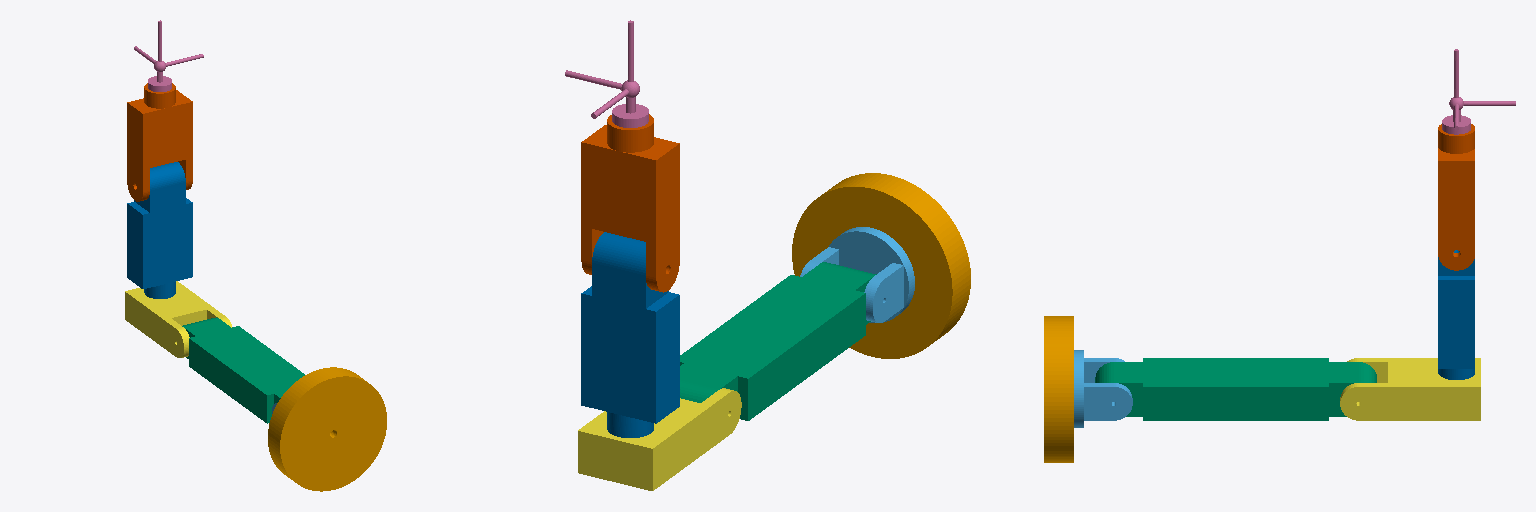
The robot description file, URDF, robot "robot_arm":
<robot name="robot_arm">

  <link name="base_link">
    <visual>
      <geometry>
        <mesh filename="base.obj"/>
      </geometry>
      <origin rpy = "-1.5708 0 0" xyz = "0 0 0"/>
    </visual>
  </link>

  <link name="link1">
    <visual>
      <geometry>
        <mesh filename="arm_1.obj"/>
      </geometry>
      <origin rpy = "-1.5708 0 0" xyz = "0 0 0"/>
    </visual>
  </link>
  <joint name="joint1" type="revolute">
    <parent link="base_link"/>
    <child link="link1"/>
    <origin xyz="0 0.03 0" rpy="0 0 0"/>
    <axis xyz="0 1 0"/>
    <limit lower="-3.1416" upper="3.1416"/>
  </joint>

  <link name="link2">
    <visual>
      <geometry>
        <mesh filename="arm_2.obj"/>
      </geometry>
      <origin rpy = "1.5708 0 1.5708" xyz = "0 0.125 0"/>
    </visual>
  </link>
  <joint name="joint2" type="revolute">
    <parent link="link1"/>
    <child link="link2"/>
    <origin xyz="0 0.041 0" rpy="0 0 0"/>
    <axis xyz="1 0 0"/>
    <limit lower="-1.57" upper="1.57"/>
  </joint>

  <link name="link3">
    <visual>
      <geometry>
        <mesh filename="arm_3.obj"/>
      </geometry>
      <origin rpy = "1.5708 0 -1.5708" xyz = "0 0.125 0"/>
    </visual>
  </link>
  <joint name="joint3" type="revolute">
    <parent link="link2"/>
    <child link="link3"/>
    <origin xyz="0 0.25 0" rpy="0 0 0"/>
    <axis xyz="1 0 0"/>
    <limit lower="-2.007" upper="2.007"/>
  </joint>

  <link name="link4">
    <visual>
      <geometry>
        <mesh filename="arm_4.obj"/>
      </geometry>
      <origin rpy = "0 -1.5708 0" xyz = "0 0 0"/>
    </visual>
  </link>
  <joint name="joint4" type="revolute">
    <parent link="link3"/>
    <child link="link4"/>
    <origin xyz="0 0.1 0.019" rpy="0 0 0"/>
    <axis xyz="0 0 1"/>
    <limit lower="-3.1416" upper="3.1416"/>
  </joint>

  <link name="link5">
    <visual>
      <geometry>
        <mesh filename="arm_5.obj"/>
      </geometry>
      <origin rpy = "0 1.5708 0" xyz = "0 0 0.125"/>
    </visual>
  </link>
  <joint name="joint5" type="revolute">
    <parent link="link4"/>
    <child link="link5"/>
    <origin xyz="0 0 0.15" rpy="0 0 0"/>
    <axis xyz="1 0 0"/>
    <limit lower="-2.007" upper="2.007"/>
  </joint>

  <link name="link6">
    <visual>
      <geometry>
        <mesh filename="arm_6.obj"/>
      </geometry>
      <origin rpy = "0 -1.5708 -1.5708" xyz = "0 0 0.028"/>
    </visual>
  </link>
  <joint name="joint6" type="revolute">
    <parent link="link5"/>
    <child link="link6"/>
    <origin xyz="0 0 0.125" rpy="0 0 0"/>
    <axis xyz="0 0 1"/>
    <limit lower="-3.14160" upper="3.14160"/>
  </joint>

</robot>

--- What the picture shows (computed from the rendered views, not written in the file) ---
3 views of the same robot in one strip: view 1: azimuth 30°, elevation 25°; view 2: azimuth 150°, elevation 25°; view 3: azimuth 270°, elevation 25° (orthographic).
Robot: robot_arm — 7 links, 6 joints (6 revolute); root link base_link; default pose: every joint at zero.
Visible links, largest first — view 1: base_link, link4, link2, link5, link3, link6; view 2: link2, base_link, link4, link5, link3, link1, link6; view 3: link2, link3, link5, base_link, link4, link1, link6.
Link boxes in pixels (x1=…): base_link: x1=268, y1=367, x2=386, y2=491; link4: x1=127, y1=162, x2=192, y2=298; link2: x1=182, y1=317, x2=304, y2=423; link5: x1=127, y1=83, x2=192, y2=201; link3: x1=125, y1=281, x2=231, y2=357; link6: x1=134, y1=20, x2=203, y2=91; link2: x1=680, y1=262, x2=876, y2=420; base_link: x1=792, y1=173, x2=970, y2=358; link4: x1=581, y1=232, x2=679, y2=437; link5: x1=581, y1=114, x2=679, y2=292; link3: x1=578, y1=388, x2=741, y2=490; link1: x1=800, y1=227, x2=914, y2=322; link6: x1=565, y1=20, x2=648, y2=127; link2: x1=1095, y1=358, x2=1376, y2=420; link3: x1=1340, y1=358, x2=1480, y2=420; link5: x1=1438, y1=124, x2=1474, y2=270; base_link: x1=1044, y1=316, x2=1073, y2=462; link4: x1=1438, y1=250, x2=1474, y2=379; link1: x1=1074, y1=350, x2=1132, y2=427; link6: x1=1442, y1=49, x2=1515, y2=134.
Bounding box of the posed robot: 0.15 × 0.481 × 0.457 m (x, y, z).
Meshes: 7 distinct files referenced, 7 mesh visuals loaded (7 OBJ).
